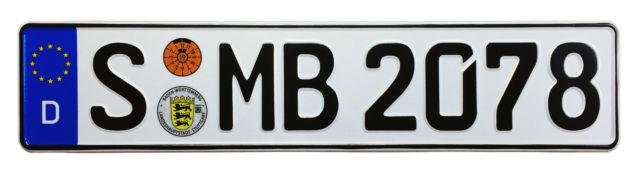0: (423, 38, 481, 133)
7: (483, 37, 540, 134)
8: (544, 38, 606, 131)
B: (362, 38, 422, 136), (282, 38, 342, 132)
M: (215, 37, 277, 131)
S: (91, 39, 149, 133)
